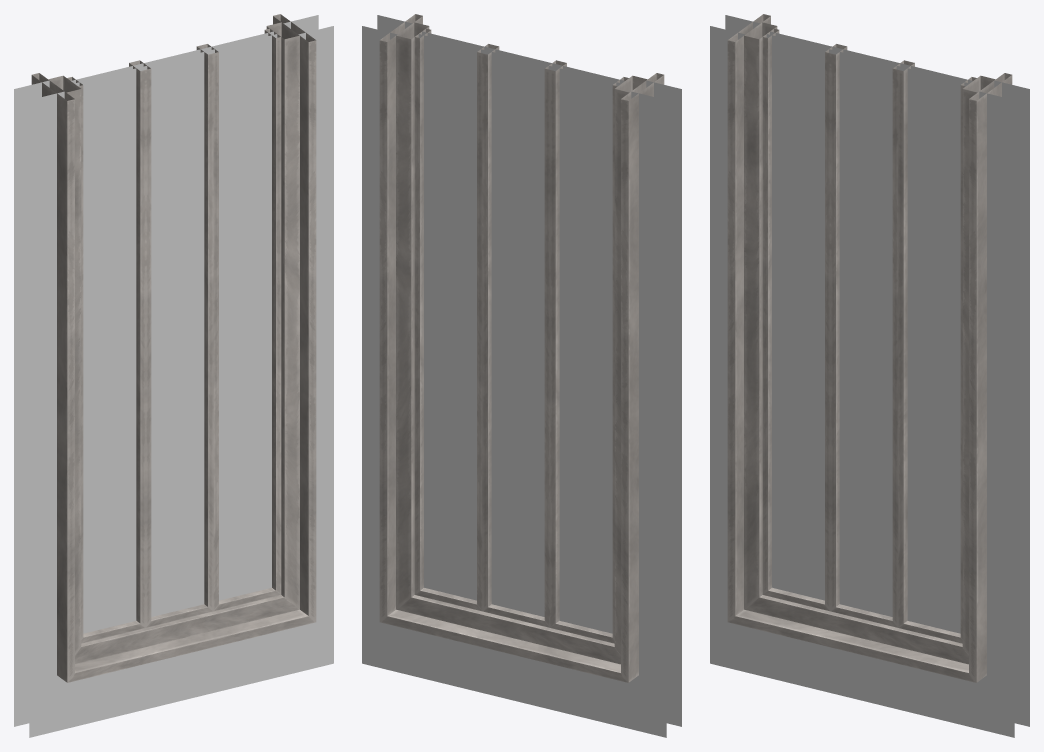
File: Wall_Window_D_E.fbx
3 renders of one model, left to right at view 1: azimuth 30°, elevation 25°; view 2: azimuth 150°, elevation 25°; view 3: azimuth 330°, elevation 25°, orthographic.
Parts seen in each view (by area): view 1: Wall_Window_D_E; view 2: Wall_Window_D_E; view 3: Wall_Window_D_E.
Part boxes in pixels (x1,y1,x2,y2): Wall_Window_D_E: (14, 14, 333, 737); Wall_Window_D_E: (362, 14, 681, 737); Wall_Window_D_E: (710, 14, 1029, 737).
Size of the model in its own units: 3 by 0.6115 by 6.
